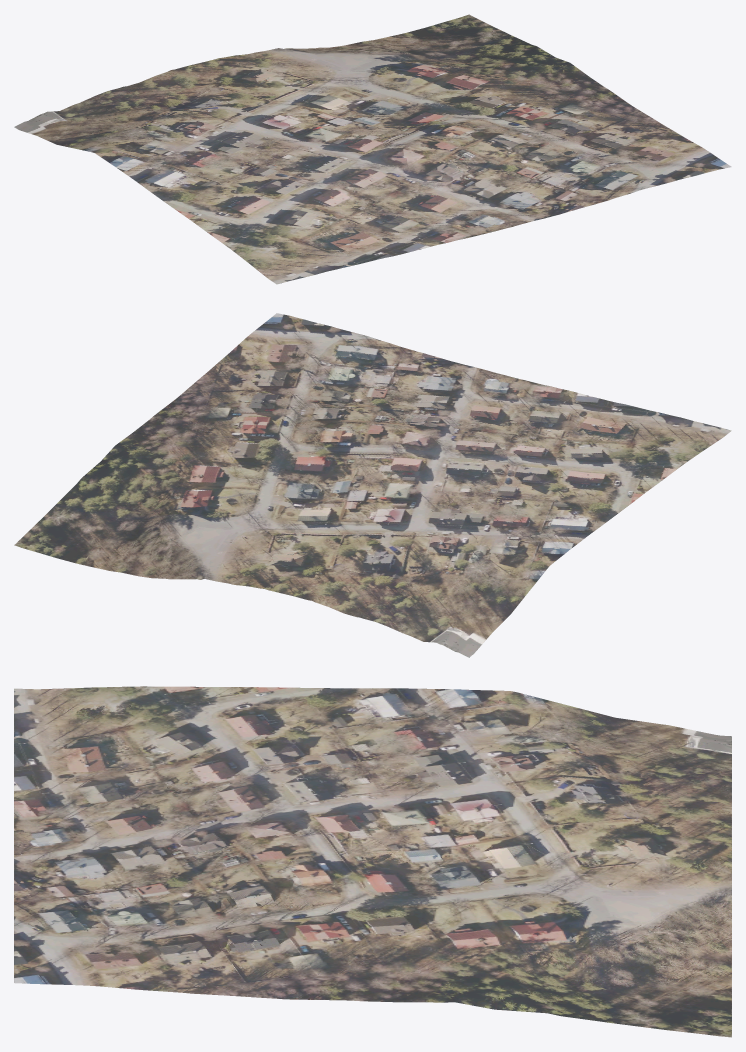
The model's file is CM_Terrain_24488410_6822456.fbx.
The picture shows the model from 3 angles, top to bottom: view 1: azimuth 30°, elevation 25°; view 2: azimuth 150°, elevation 25°; view 3: azimuth 270°, elevation 25°; orthographic projection. The views are drawn at different scales.
Visible parts, largest first — view 1: CM_Terrain_24488410_6822456_LOD0; view 2: CM_Terrain_24488410_6822456_LOD0; view 3: CM_Terrain_24488410_6822456_LOD0.
Part boxes in pixels (left/top/right/bottom): CM_Terrain_24488410_6822456_LOD0: left=14, top=14, right=731, bottom=284; CM_Terrain_24488410_6822456_LOD0: left=14, top=313, right=731, bottom=657; CM_Terrain_24488410_6822456_LOD0: left=14, top=686, right=731, bottom=1037.
Size of what is drawn, in the model's own units: 205 by 18.67 by 205.
